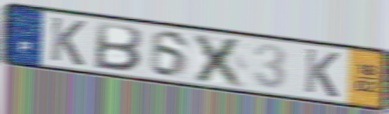3: (252, 42, 290, 91)
6: (147, 30, 192, 79)
B: (91, 20, 145, 74)
K: (302, 46, 342, 100), (48, 15, 88, 68)
X: (191, 31, 250, 90)
